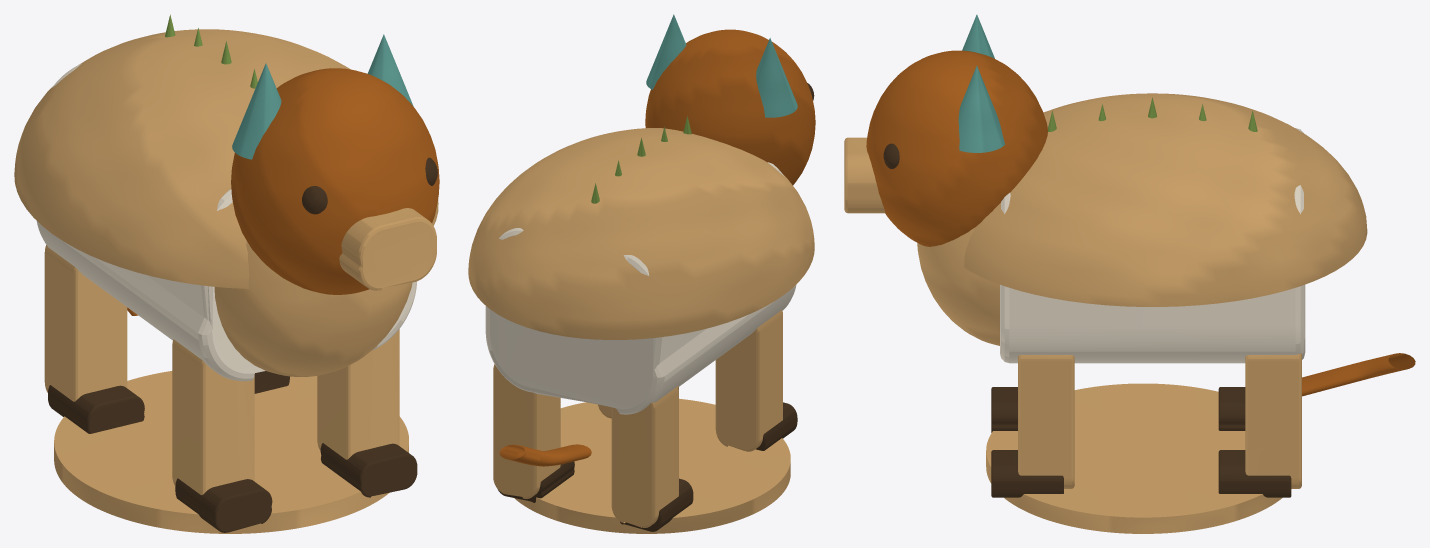
Rendered from 0878_森林动物图鉴_美洲豹.glb.
The picture shows the model from 3 angles, left to right: view 1: azimuth 30°, elevation 25°; view 2: azimuth 150°, elevation 25°; view 3: azimuth 270°, elevation 25°; orthographic projection. The views are drawn at different scales.
Visible parts, largest first — view 1: card_0878; view 2: card_0878; view 3: card_0878.
Part boxes in pixels (left/top/right/bottom): card_0878: left=14, top=14, right=439, bottom=533; card_0878: left=468, top=14, right=815, bottom=533; card_0878: left=844, top=14, right=1415, bottom=533.
Size of the model in its own units: 0.762 by 1 by 1.21.
